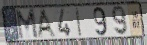4: (58, 8, 73, 38)
9: (110, 5, 129, 37), (92, 6, 109, 37)
A: (36, 8, 58, 39)
I: (74, 6, 84, 38)
M: (14, 8, 40, 41)
